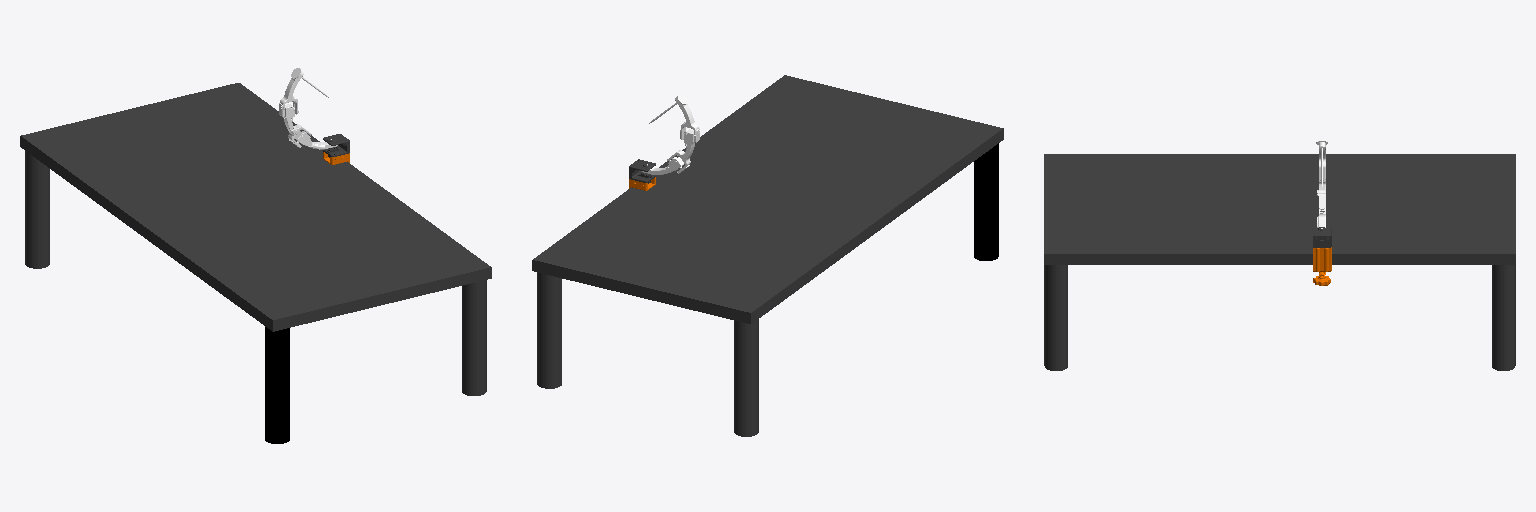
URDF robot description (arm_spherical):
<?xml version="1.0" encoding="utf-8"?>
<!-- This URDF was automatically created by SolidWorks to URDF Exporter! Originally created by [author] ([email redacted]) 
     Commit Version: 1.6.0-1-g15f4949  Build Version: 1.6.7594.29634
     For more information, please see http://wiki.ros.org/sw_urdf_exporter -->

<!-- Robot model declaration -->
<robot
  name="arm_spherical">

<!-- ==================== -->
<!-- MATERIAL DEFINITIONS -->
<!-- ==================== -->
<material name="dark_grey">
  <color rgba="0.3 0.3 0.3 1" />
</material>

<material name="white">
  <color rgba="1 1 1 1" />
</material>

<material name="neon_orange">
  <color rgba="1 0.5 0 1" />
</material>

<material name="black">
  <color rgba="0 0 0 1" />
</material>

<material name="brown">
  <color rgba="0.6 0.3 0.1 1" />
</material>

<!-- ==================== -->
<!-- TABLE STRUCTURE      -->
<!-- ==================== -->
<!-- Table Legs -->
<link name="Leg1">
  <inertial>
    <origin xyz="0 0 0" rpy="0 0 0" />
    <mass value="500" />
    <inertia ixx="0.01" ixy="0" ixz="0" iyy="0.01" iyz="0" izz="0.01" />
  </inertial>
  <visual>
    <origin xyz="0 0 -0.25" rpy="0 0 0" />
    <geometry>
      <cylinder radius="0.05" length="0.5" />
    </geometry>
    <material name="dark_grey" />
  </visual>
  <collision>
    <origin xyz="0 0 -0.25" rpy="0 0 0" />
    <geometry>
      <cylinder radius="0.05" length="0.5" />
    </geometry>
  </collision>
</link>

<link name="Leg2">
  <inertial>
    <origin xyz="0 0 0" rpy="0 0 0" />
    <mass value="500" />
    <inertia ixx="0.01" ixy="0" ixz="0" iyy="0.01" iyz="0" izz="0.01" />
  </inertial>
  <visual>
    <origin xyz="0 0 -0.25" rpy="0 0 0" />
    <geometry>
      <cylinder radius="0.05" length="0.5" />
    </geometry>
    <material name="dark_grey" />
  </visual>
  <collision>
    <origin xyz="0 0 -0.25" rpy="0 0 0" />
    <geometry>
      <cylinder radius="0.05" length="0.5" />
    </geometry>
  </collision>
</link>

<link name="Leg3">
  <inertial>
    <origin xyz="0 0 0" rpy="0 0 0" />
    <mass value="500" />
    <inertia ixx="0.01" ixy="0" ixz="0" iyy="0.01" iyz="0" izz="0.01" />
  </inertial>
  <visual>
    <origin xyz="0 0 -0.25" rpy="0 0 0" />
    <geometry>
      <cylinder radius="0.05" length="0.5" />
    </geometry>
    <material name="dark_grey" />
  </visual>
  <collision>
    <origin xyz="0 0 -0.25" rpy="0 0 0" />
    <geometry>
      <cylinder radius="0.05" length="0.5" />
    </geometry>
  </collision>
</link>

<link name="Leg4">
  <inertial>
    <origin xyz="0 0 0" rpy="0 0 0" />
    <mass value="500" />
    <inertia ixx="0.01" ixy="0" ixz="0" iyy="0.01" iyz="0" izz="0.01" />
  </inertial>
  <visual>
    <origin xyz="0 0 -0.25" rpy="0 0 0" />
    <geometry>
      <cylinder radius="0.05" length="0.5" />
    </geometry>
    <material name="black" />
  </visual>
  <collision>
    <origin xyz="0 0 -0.25" rpy="0 0 0" />
    <geometry>
      <cylinder radius="0.05" length="0.5" />
    </geometry>
  </collision>
</link>

<!-- Table Leg Joints -->
<joint name="Table_to_Leg1" type="fixed">
  <origin xyz="0.45 0.95 -0.025" rpy="0 0 0" />
  <parent link="Table" />
  <child link="Leg1" />
</joint>

<joint name="Table_to_Leg2" type="fixed">
  <origin xyz="-0.45 0.95 -0.025" rpy="0 0 0" />
  <parent link="Table" />
  <child link="Leg2" />
</joint>

<joint name="Table_to_Leg3" type="fixed">
  <origin xyz="0.45 -0.95 -0.025" rpy="0 0 0" />
  <parent link="Table" />
  <child link="Leg3" />
</joint>

<joint name="Table_to_Leg4" type="fixed">
  <origin xyz="-0.45 -0.95 -0.025" rpy="0 0 0" />
  <parent link="Table" />
  <child link="Leg4" />
</joint>

<!-- Table Surface -->
<link name="Table">
  <visual>
    <origin xyz="0 0 0" rpy="0 0 0" />
    <geometry>
      <box size="1 2 0.05" />
    </geometry>
    <material name="dark_grey"/>
  </visual>
  <collision>
    <origin xyz="0 0 0" rpy="0 0 0" />
    <geometry>
      <box size="0.5 0.5 0.05" />
    </geometry>
  </collision>
</link>

<!-- Table-Clamp Connection (reversed) -->
<joint name="Table_to_Clamp" type="fixed">
  <origin xyz="0.5 0.3 -0.01" rpy="0 0 0" />
  <parent link="Table" />
  <child link="Clamp" />
</joint>


<!-- ==================== -->
<!-- ROBOT BASE STRUCTURE -->
<!-- ==================== -->
  
  <!-- Base link (Clamp) with inertial, visual and collision properties -->
  <link
    name="Clamp">
    <inertial>
      <origin
        xyz="-0.0233258079752198 -0.0189733048148376 0.120959528638574"
        rpy="0 0 0" />
      <mass
        value="0.460494456300938" />
      <inertia
        ixx="0.000882508213865086"
        ixy="-2.59122688089503E-05"
        ixz="2.1696681697268E-08"
        iyy="0.000491167484016736"
        iyz="3.80444687674658E-08"
        izz="0.000906035971393882" />
    </inertial>
    <visual>
      <origin
        xyz="0 0 0"
        rpy="0 0 0" />
      <geometry>
        <mesh
          filename="package://arm_spherical/meshes/Clamp.STL" />
      </geometry>
      <material name="neon_orange"/>
    </visual>
    <collision>
      <origin
        xyz="0 0 0"
        rpy="0 0 0" />
      <geometry>
        <mesh
          filename="package://arm_spherical/meshes/Clamp.STL" />
      </geometry>
    </collision>
  </link>
  
  <!-- Base bottom link with inertial, visual and collision properties -->
  <link
    name="BaseBottom">
    <inertial>
      <origin
        xyz="0.0275161601893971 0.0146166513581867 -5.39317474984591E-08"
        rpy="1.5708 0 0" />
      <mass
        value="0.10484945725473" />
      <inertia
        ixx="7.2709906267008E-05"
        ixy="-1.75624126571964E-05"
        ixz="3.36090561898083E-12"
        iyy="0.000110167023327002"
        iyz="-4.00916785166116E-11"
        izz="7.6148394145867E-05" />
    </inertial>
    <visual>
      <origin
        xyz="0 0 0"
        rpy="1.5708 0 0" />
      <geometry>
        <mesh
          filename="package://arm_spherical/meshes/BaseBottom.STL" />
      </geometry>
      <material name="dark_grey"/>
    </visual>
    <collision>
      <origin
        xyz="0 0 0"
        rpy="1.5708 0 0" />
      <geometry>
        <mesh
          filename="package://arm_spherical/meshes/BaseBottom.STL" />
      </geometry>
    </collision>
  </link>
  
  <!-- Fixed joint connecting Clamp to BaseBottom -->
  <joint
    name="BaseCoincident"
    type="fixed">
    <origin
      xyz="-0.042533 -0.12096 0.069938"
      rpy="0 0 0" />
    <parent
      link="Clamp" />
    <child
      link="BaseBottom" />
  </joint>
  
  <!-- Base top link with inertial, visual and collision properties -->
  <link
    name="Basetop">
    <inertial>
      <origin
        xyz="0.0177442759556105 0.0502156701824598 5.59712730607842E-08"
        rpy="0 0 0" />
      <mass
        value="0.0616862169128715" />
      <inertia
        ixx="3.32770325911918E-05"
        ixy="3.13233432088646E-06"
        ixz="6.41709719283794E-11"
        iyy="6.5760819704772E-05"
        iyz="5.39655506606401E-12"
        izz="3.59717393927469E-05" />
    </inertial>
    <visual>
      <origin
        xyz="0 0 0"
        rpy="0 0 0" />
      <geometry>
        <mesh
          filename="package://arm_spherical/meshes/Basetop.STL" />
      </geometry>
      <material name="dark_grey"/>
    </visual>
    <collision>
      <origin
        xyz="0 0 0"
        rpy="0 0 0" />
      <geometry>
        <mesh
          filename="package://arm_spherical/meshes/Basetop.STL" />
      </geometry>
    </collision>
  </link>
  
  <!-- Fixed joint connecting BaseBottom to Basetop -->
  <joint
    name="Basetop_coincident"
    type="fixed">
    <origin
      xyz="0 0 0"
      rpy="1.5708 0 0" />
    <parent
      link="BaseBottom" />
    <child
      link="Basetop" />
  </joint>
  
  <!-- First arm link with inertial, visual and collision properties -->
  <link
    name="Link1">
    <inertial>
      <origin
        xyz="-0.073231724293926 -0.174495682559919 0.0157674561080342"
        rpy="0 0 0" />
      <mass
        value="0.134387451123297" />
      <inertia
        ixx="7.1758516138625E-05"
        ixy="0.000116929954535354"
        ixz="3.81941128933395E-07"
        iyy="0.000341666804259734"
        iyz="8.02702342060214E-07"
        izz="0.00038896653307721" />
    </inertial>
    <visual>
      <origin
        xyz="0 0 0"
        rpy="0 0 0" />
      <geometry>
        <mesh
          filename="package://arm_spherical/meshes/Link1.STL" />
      </geometry>
<material name="white"/>
    </visual>
    <collision>
      <origin
        xyz="0 0 0"
        rpy="0 0 0" />
      <geometry>
        <mesh
          filename="package://arm_spherical/meshes/Link1.STL" />
      </geometry>
    </collision>
  </link>
  
  <!-- Fixed joint connecting Basetop to Link1 -->
  <joint
    name="Base_Revolute"
    type="revolute">
    <origin
      xyz="-0.010096 0.0608 0"
      rpy="0 1.5708 1.5708" />
    <parent
      link="Basetop" />
    <child
      link="Link1" />
    <axis
      xyz="0 0 1" />
    <limit
      lower="-1.57"
      upper="1.57"
      effort="100"
      velocity="1.0" />
      <dynamics damping="5.0" friction="1.0" />
  </joint>
  
  <!-- Second arm link with inertial, visual and collision properties -->
  <link
    name="Link2">
    <inertial>
      <origin
        xyz="-0.139451292762809 -0.0329510200015893 0.000277091219948775"
        rpy="0 0 0" />
      <mass
        value="0.141255683111516" />
      <inertia
        ixx="0.000227868250967347"
        ixy="8.7680483880456E-05"
        ixz="1.32043697759105E-07"
        iyy="0.000101148176225664"
        iyz="8.58998343331658E-07"
        izz="0.000305019266512094" />
    </inertial>
    <visual>
      <origin xyz="0 0 0" rpy="0 0 0" />
      <geometry>
        <mesh filename="package://arm_spherical/meshes/Link2.STL" />
      </geometry>
      <material name="white" />
    </visual>
    <collision>
      <origin
        xyz="0 0 0"
        rpy="0 0 0" />
      <geometry>
        <mesh
          filename="package://arm_spherical/meshes/Link2.STL" />
      </geometry>
    </collision>
  </link>
  
  <!-- Revolute joint connecting Link1 to Link2 -->
  <joint
    name="Revolute_2"
    type="revolute">
    <origin
      xyz="0 0.1150 0.060"
      rpy="0.7708 0 0" />
    <parent
      link="Link1" />
    <child
      link="Link2" />
    <axis
      xyz="0 0 -0.70711" />
    <limit
      lower="-1.57"
      upper="1.57"
      effort="100"
      velocity="1.0" />
      <dynamics damping="5.0" friction="1.0" />
  </joint>
  
  <!-- Third arm link with inertial, visual and collision properties -->
  <link
    name="Link3">
    <inertial>
      <origin
        xyz="-0.148190265926897 -0.041217213228108 1.82467526561869E-06"
        rpy="0 0 0" />
      <mass
        value="0.143472691808633" />
      <inertia
        ixx="0.000227308574163085"
        ixy="9.66722469399881E-05"
        ixz="3.60638195162956E-09"
        iyy="0.000154051419490628"
        iyz="-3.4644084442219E-09"
        izz="0.000360596535382784" />
    </inertial>
    <visual>
      <origin xyz="0 0 0" rpy="0 0 0" />
      <geometry>
        <mesh filename="package://arm_spherical/meshes/Link3.STL" />
      </geometry>
      <material name="white" />
    </visual>
    <collision>
      <origin
        xyz="0 0 0"
        rpy="0 0 0" />
      <geometry>
        <mesh
          filename="package://arm_spherical/meshes/Link3.STL" />
      </geometry>
    </collision>
  </link>
  
  <!-- Revolute joint connecting Link2 to Link3 -->
  <joint
    name="Revolute3"
    type="revolute">
    <origin
      xyz="0 0.113917 0.0475"
      rpy="0.7708 0 0" />
    <parent
      link="Link2" />
    <child
      link="Link3" />
    <axis
      xyz="0 0 -0.70711" />
    <limit
      lower="-2.35"
      upper="2.35"
      effort="100"
      velocity="1.0" />
      <dynamics damping="5.0" friction="1.0" />
  </joint>
  
    <!-- ==================== -->
  <!-- GAZEBO MATERIALS     -->
  <!-- ==================== -->
  <!-- Table Legs -->
  <gazebo reference="Leg1">
    <material>Gazebo/White</material>
  </gazebo>
  
  <gazebo reference="Leg2">
    <material>Gazebo/White</material>
  </gazebo>
  
  <gazebo reference="Leg3">
    <material>Gazebo/White</material>
  </gazebo>
  
  <gazebo reference="Leg4">
    <material>Gazebo/White</material>
  </gazebo>
  
  <!-- Table -->
  <gazebo reference="Table">
    <material>Gazebo/White</material>
  </gazebo>
  
  <!-- Base Components -->
  <gazebo reference="Clamp">
    <material>Gazebo/Orange</material>
  </gazebo>
  
  <gazebo reference="BaseBottom">
    <material>Gazebo/Orange</material>
  </gazebo>
  
  <gazebo reference="Basetop">
    <material>Gazebo/Orange</material>
  </gazebo>
  
  <!-- Robot Arm Links -->
  <gazebo reference="Link1">
    <material>Gazebo/DarkGrey</material>
  </gazebo>
  
  <gazebo reference="Link2">
    <material>Gazebo/DarkGrey</material>
  </gazebo>
  
  <gazebo reference="Link3">
    <material>Gazebo/DarkGrey</material>
  </gazebo>
  <!-- Gazebo-specific joint properties -->
  <gazebo reference="Base_Revolute">
    <implicitSpringDamper>1</implicitSpringDamper>
    <provideFeedback>true</provideFeedback>
  </gazebo>
  
  <gazebo reference="Revolute_2">
    <implicitSpringDamper>1</implicitSpringDamper>
    <provideFeedback>true</provideFeedback>
  </gazebo>
  
  <gazebo reference="Revolute3">
    <implicitSpringDamper>1</implicitSpringDamper>
    <provideFeedback>true</provideFeedback>
  </gazebo>
</robot>

--- Render facts (derived) ---
The picture shows the robot from 3 angles, left to right: view 1: azimuth 30°, elevation 25°; view 2: azimuth 150°, elevation 25°; view 3: azimuth 270°, elevation 25°; orthographic projection.
Model arm_spherical with 11 links and 10 joints (3 revolute, 7 fixed), rooted at Table, posed all joints at 0.
Links seen in each view (by area): view 1: Table, Leg4, Leg3, Leg2, Link3; view 2: Table, Leg2, Leg1, Leg4, Link3; view 3: Table, Leg1, Leg3, Clamp.
Boxes of the visible links, left/top/right/bottom form: Table: left=20, top=83, right=491, bottom=331; Leg4: left=265, top=327, right=289, bottom=443; Leg3: left=462, top=280, right=486, bottom=395; Leg2: left=25, top=151, right=49, bottom=268; Link3: left=279, top=68, right=328, bottom=116; Table: left=532, top=75, right=1003, bottom=323; Leg2: left=734, top=319, right=758, bottom=436; Leg1: left=537, top=272, right=561, bottom=388; Leg4: left=974, top=143, right=998, bottom=260; Link3: left=649, top=93, right=699, bottom=142; Table: left=1044, top=154, right=1515, bottom=264; Leg1: left=1492, top=265, right=1515, bottom=370; Leg3: left=1044, top=265, right=1067, bottom=370; Clamp: left=1313, top=247, right=1331, bottom=285.
Size in the robot's own frame: 1.02 by 2 by 0.9894 metres.
Meshes: 6 distinct files referenced, 6 mesh visuals loaded (6 binary STL).